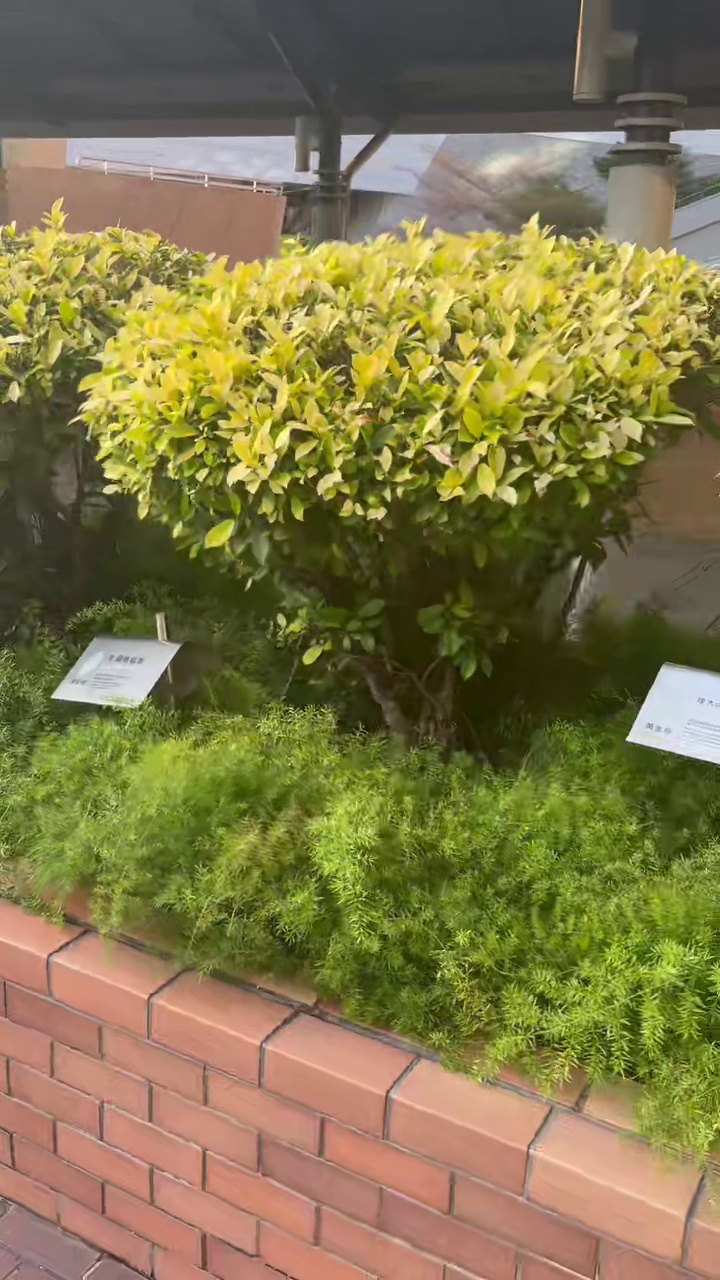Golden-leaves Fig: (81, 220, 719, 739)
